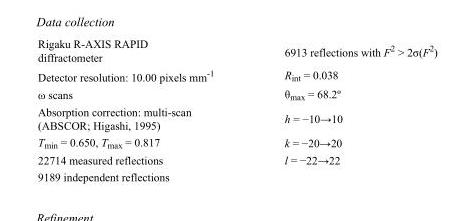table: (37, 37, 436, 182)
table column: (37, 37, 248, 182), (248, 37, 436, 182)
table row: (37, 103, 436, 133), (37, 37, 436, 65), (37, 65, 436, 85), (37, 85, 436, 103), (37, 133, 436, 151), (37, 151, 436, 168), (37, 168, 436, 182)
